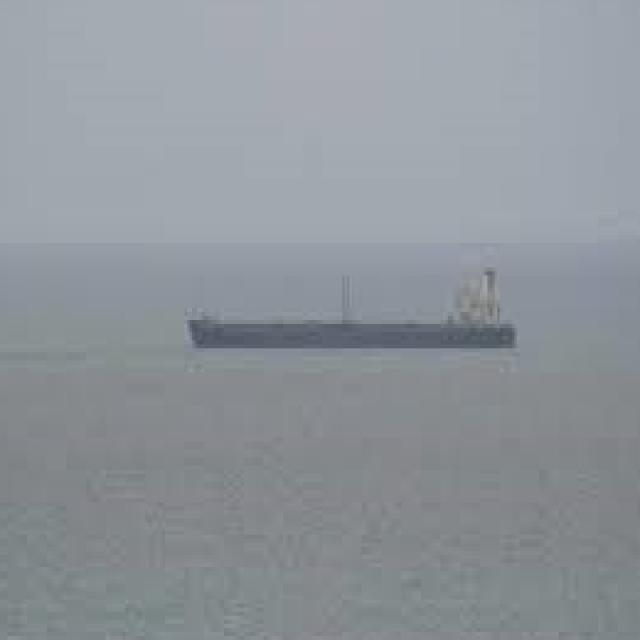cargoship: (187, 252, 520, 357)
